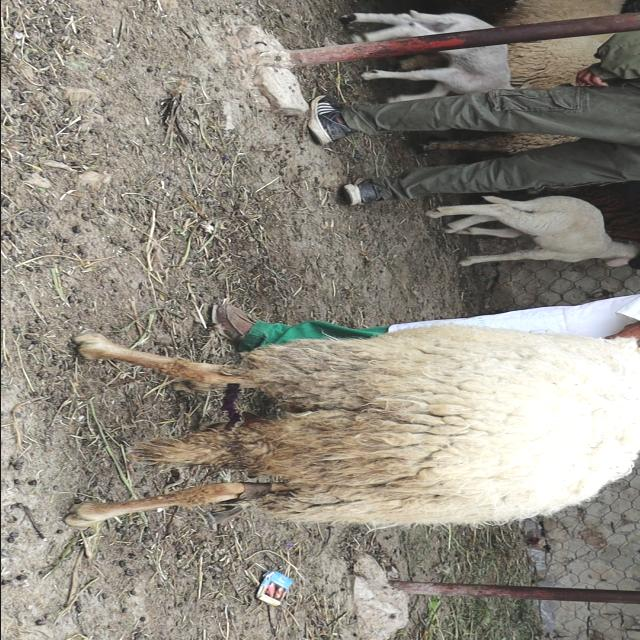Score_4: (65, 325, 640, 528)
